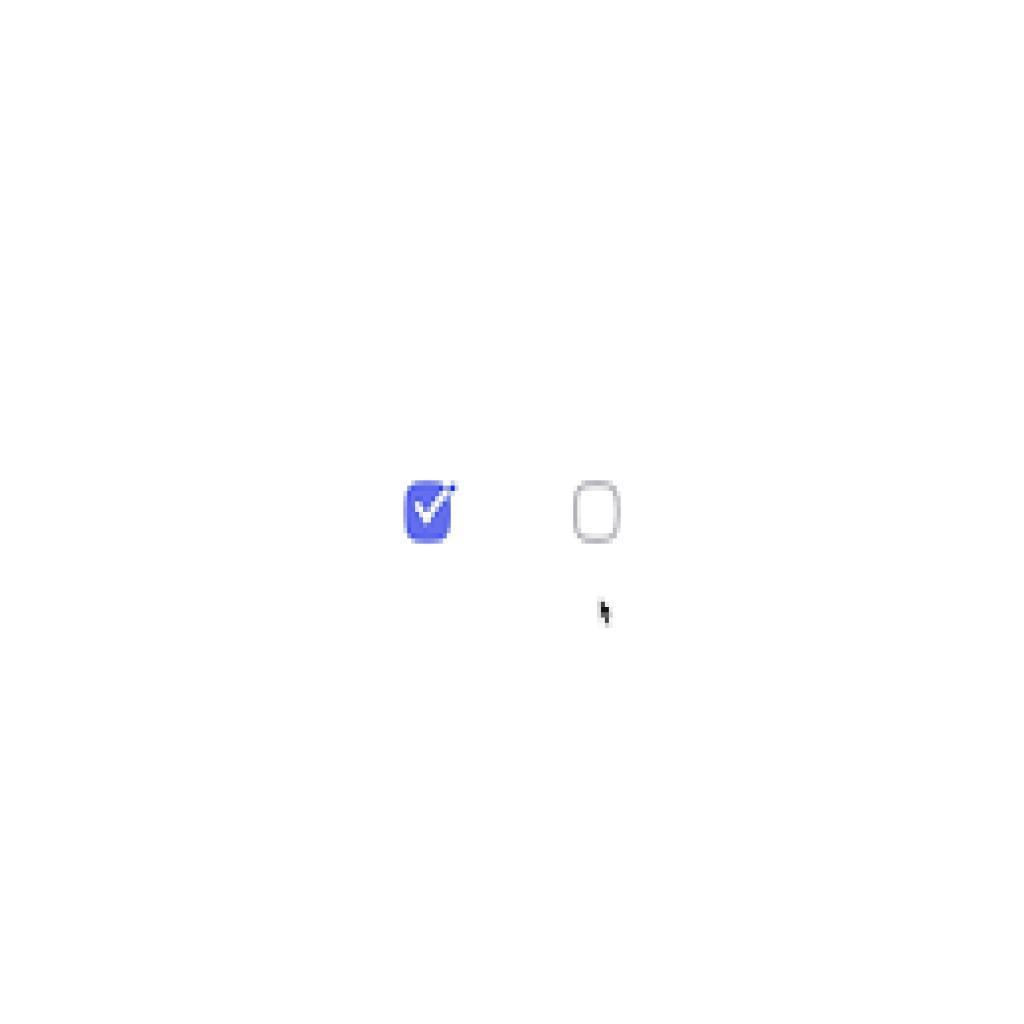checkbox: (405, 483, 451, 541), (576, 485, 621, 543)
